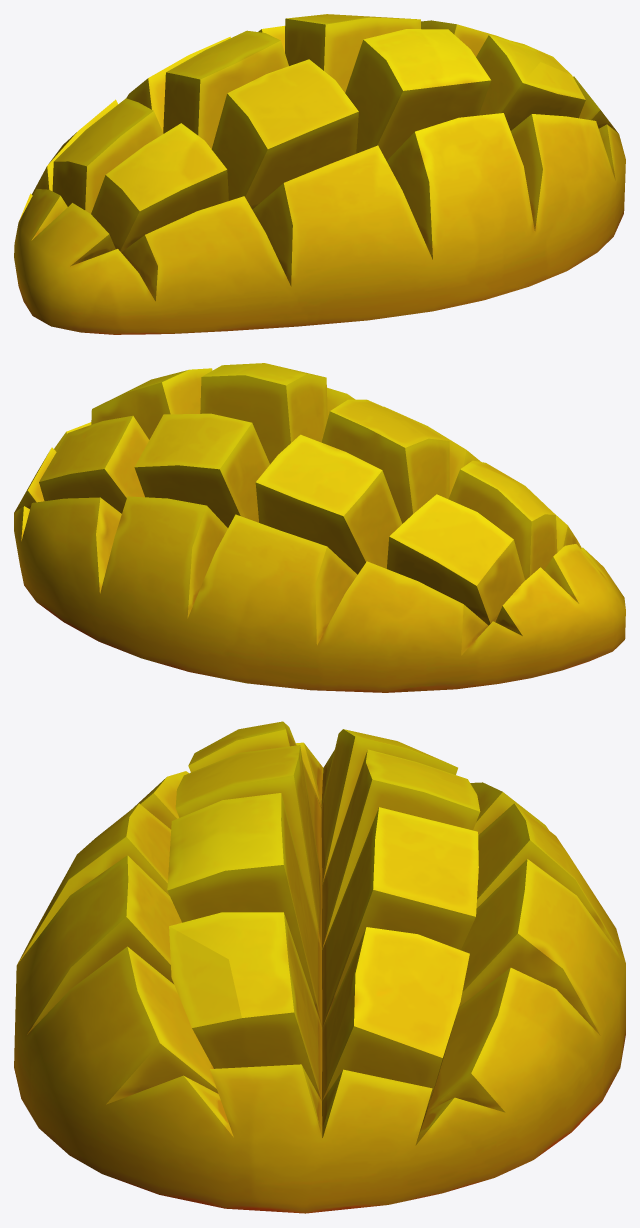
The model's file is SM_MangoCutE.fbx.
3 renders of one model, top to bottom at view 1: azimuth 30°, elevation 25°; view 2: azimuth 150°, elevation 25°; view 3: azimuth 270°, elevation 25°, orthographic. The views are drawn at different scales.
Visible parts, largest first — view 1: SM_MangoCutE; view 2: SM_MangoCutE; view 3: SM_MangoCutE.
Boxes of the visible parts, left/top/right/bottom form: SM_MangoCutE: left=14, top=14, right=625, bottom=334; SM_MangoCutE: left=14, top=363, right=625, bottom=692; SM_MangoCutE: left=14, top=721, right=625, bottom=1213.
Size of the model in its own units: 22.01 by 7.04 by 14.98.
